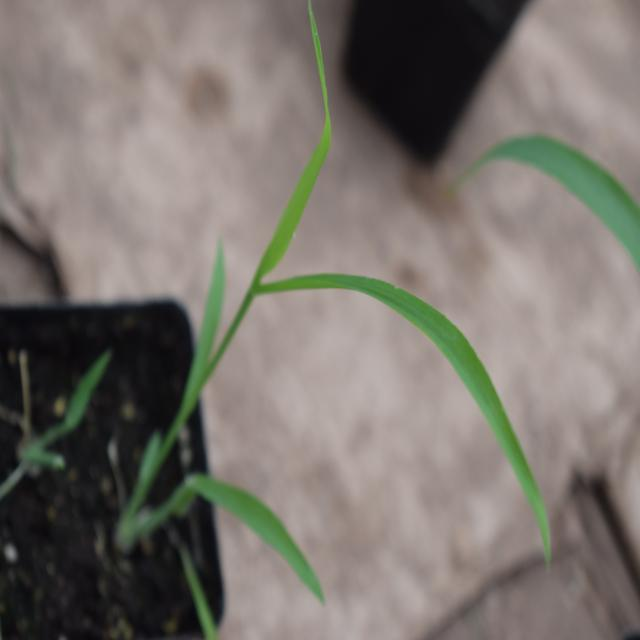crabgrass: (147, 91, 550, 596)
